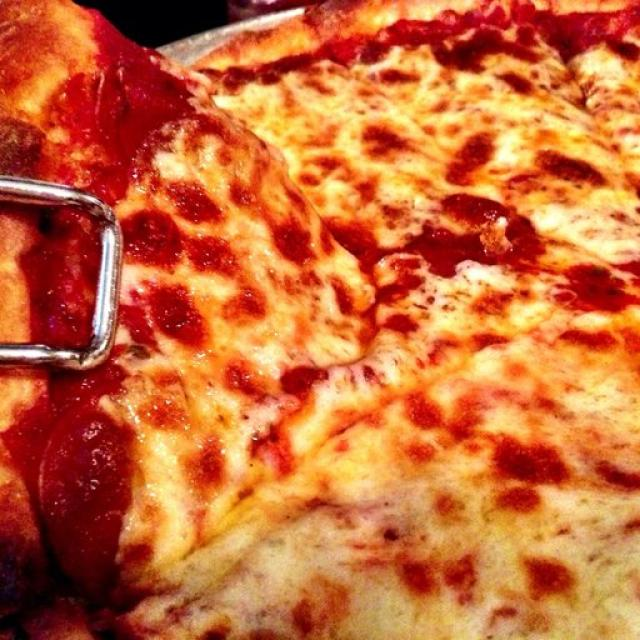Cheese: (209, 95, 626, 602)
